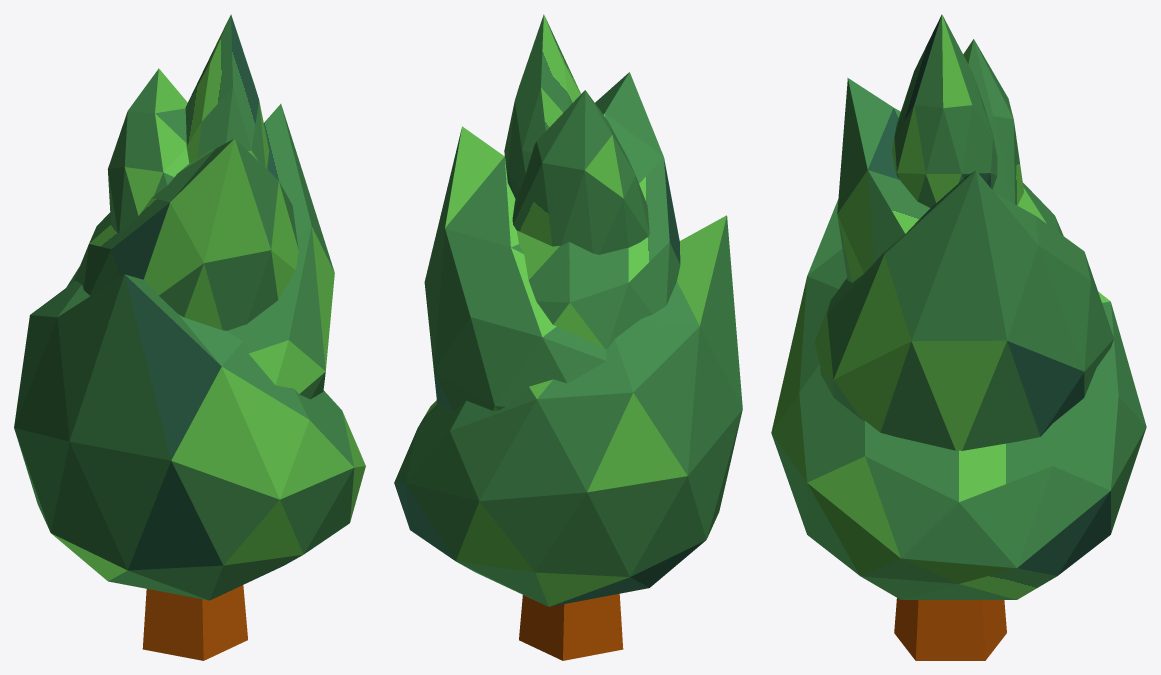
File: Tree_07_1.fbx
3 views of the same model, side by side, from view 1: azimuth 30°, elevation 25°; view 2: azimuth 150°, elevation 25°; view 3: azimuth 270°, elevation 25° (orthographic). The views are drawn at different scales.
Visible parts, largest first — view 1: Tree_07 top, Tree_07 trunk; view 2: Tree_07 top, Tree_07 trunk; view 3: Tree_07 top, Tree_07 trunk.
Boxes of the visible parts, x1,y1,x2,y2 form: Tree_07 top: (14, 14, 365, 610); Tree_07 trunk: (142, 591, 247, 660); Tree_07 top: (394, 14, 742, 611); Tree_07 trunk: (519, 595, 623, 660); Tree_07 top: (771, 14, 1146, 608); Tree_07 trunk: (894, 598, 1006, 660).
Size of the model in its own units: 360 by 717 by 378.
